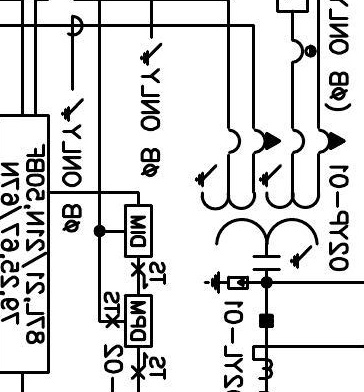115_cvt_1p: (194, 126, 347, 272)
115_la: (203, 271, 249, 295)
DIM: (124, 204, 153, 258)
DPM: (124, 294, 153, 348)
